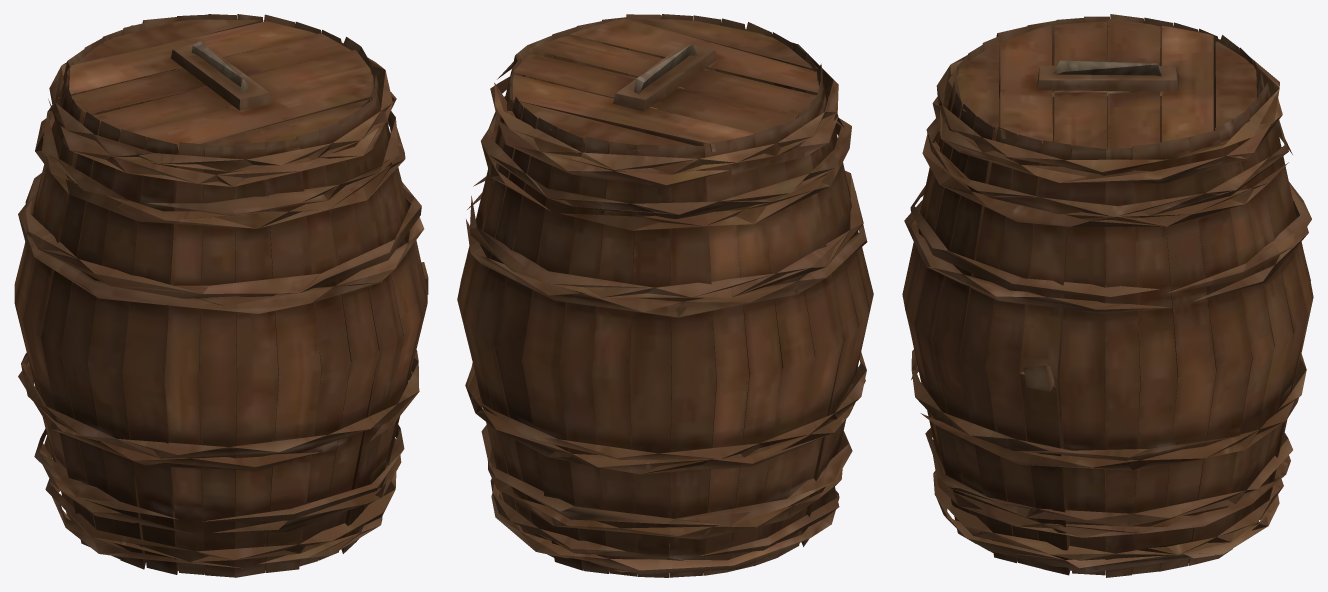
Rendered from barrel.glb.
3 renders of one model, left to right at view 1: azimuth 30°, elevation 25°; view 2: azimuth 150°, elevation 25°; view 3: azimuth 270°, elevation 25°, orthographic.
Visible parts, largest first — view 1: barrel; view 2: barrel; view 3: barrel.
Boxes of the visible parts, x1,y1,x2,y2 form: barrel: (14,14,428,577); barrel: (457,14,873,577); barrel: (902,14,1313,577).
Bounding box in the file's own units: 0.7616 × 0.9173 × 0.7616.
Materials: 1 (1 with a texture image).
